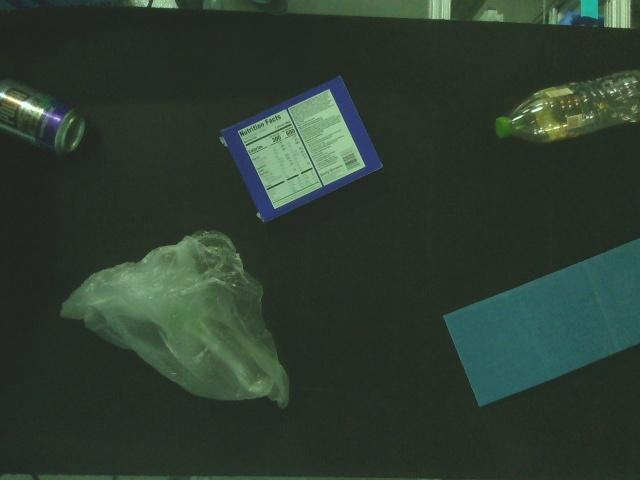cardboard: (439, 232, 640, 412), (211, 71, 390, 229)
metal: (0, 70, 90, 164)
plastic: (55, 226, 309, 414), (493, 63, 640, 150)
